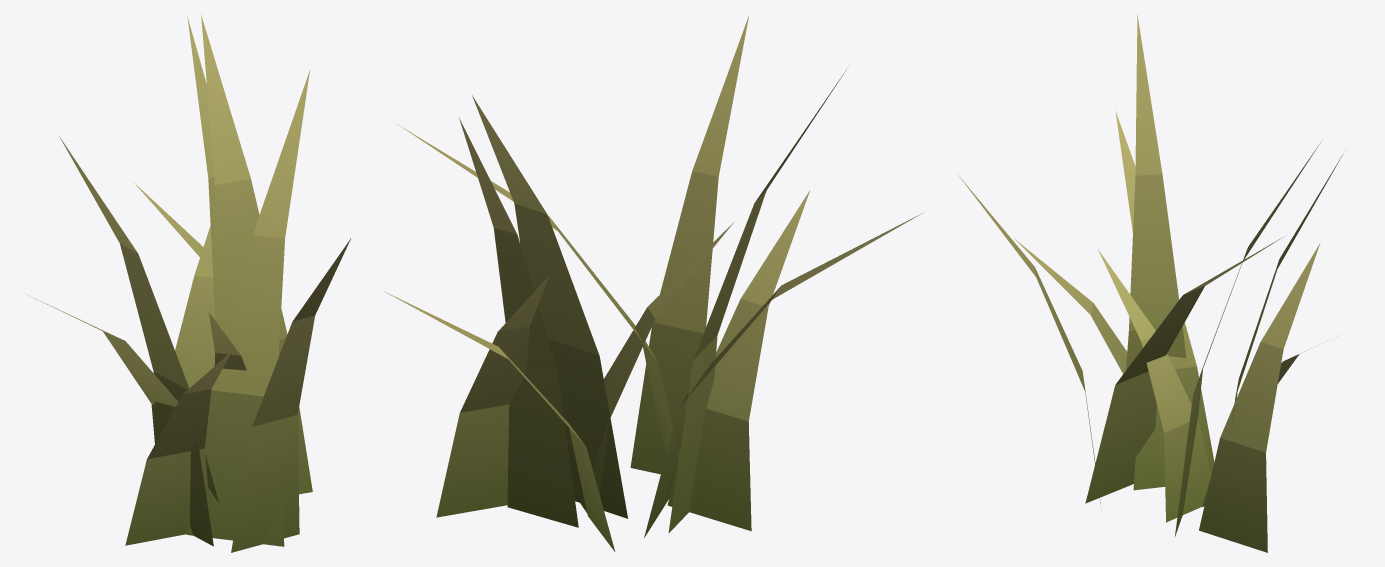
The model's file is beach.glb.
3 renders of one model, left to right at view 1: azimuth 30°, elevation 25°; view 2: azimuth 150°, elevation 25°; view 3: azimuth 270°, elevation 25°, orthographic. The views are drawn at different scales.
Visible parts, largest first — view 1: grass_beach_leaf; view 2: grass_beach_leaf; view 3: grass_beach_leaf.
Part boxes in pixels (x1=…): grass_beach_leaf: x1=18, y1=14, x2=351, y2=552; grass_beach_leaf: x1=384, y1=15, x2=923, y2=551; grass_beach_leaf: x1=958, y1=14, x2=1345, y2=552.
Bounding box in the file's own units: 0.5547 × 0.5971 × 0.5603.
